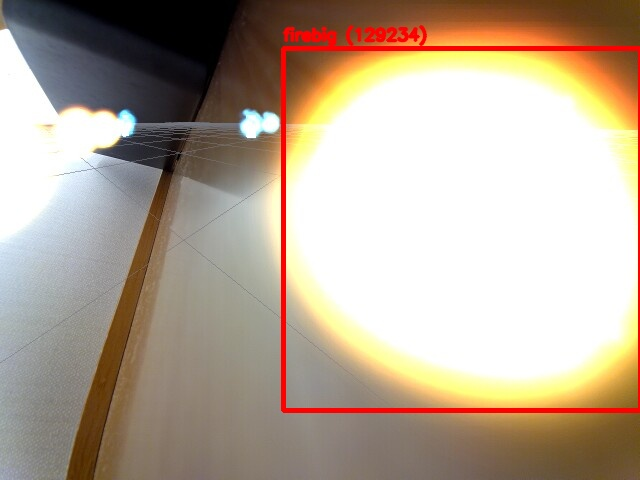firebig: (283, 48, 640, 410)
